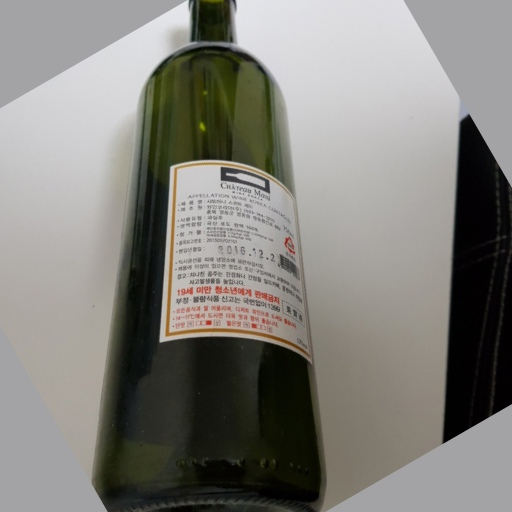Glass_2: (94, 1, 325, 512)
